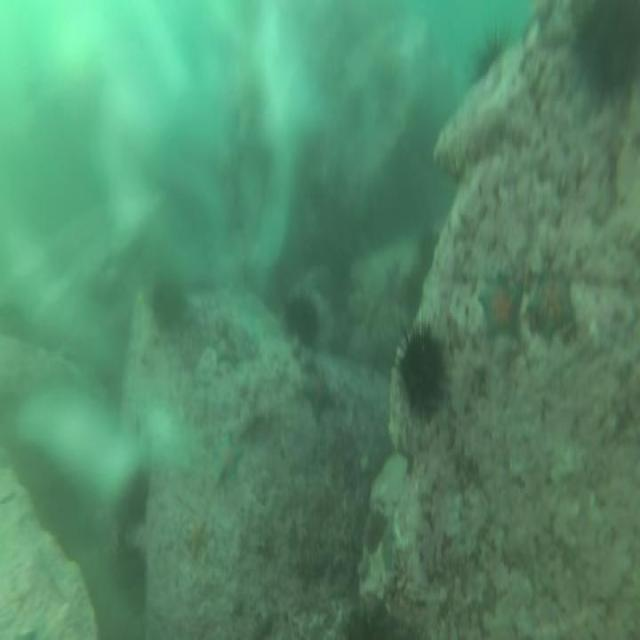echinus: (576, 0, 640, 109), (390, 311, 449, 425), (114, 542, 152, 619), (147, 274, 191, 336), (468, 26, 512, 86), (281, 292, 321, 348), (119, 468, 152, 532)
starfish: (476, 267, 526, 349), (529, 264, 579, 346), (294, 360, 338, 425), (211, 428, 246, 490), (209, 324, 242, 374), (180, 518, 210, 562)
